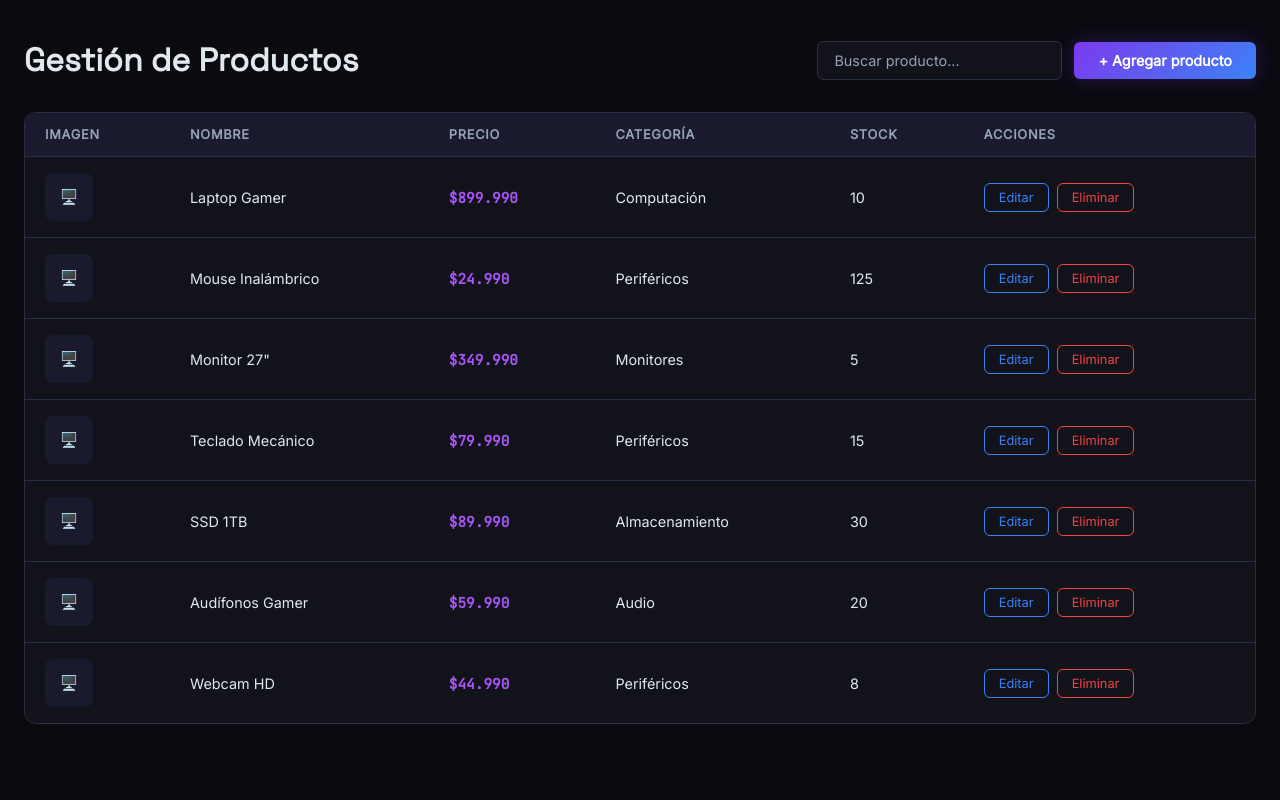
Test case: HU-ADMIN-01 · Gestión de Productos › CA5: buscador filtra productos por nombre
Type "Laptop" into the field with test id "buscador-productos". click: [940, 60]
box: [817,40,1062,80]
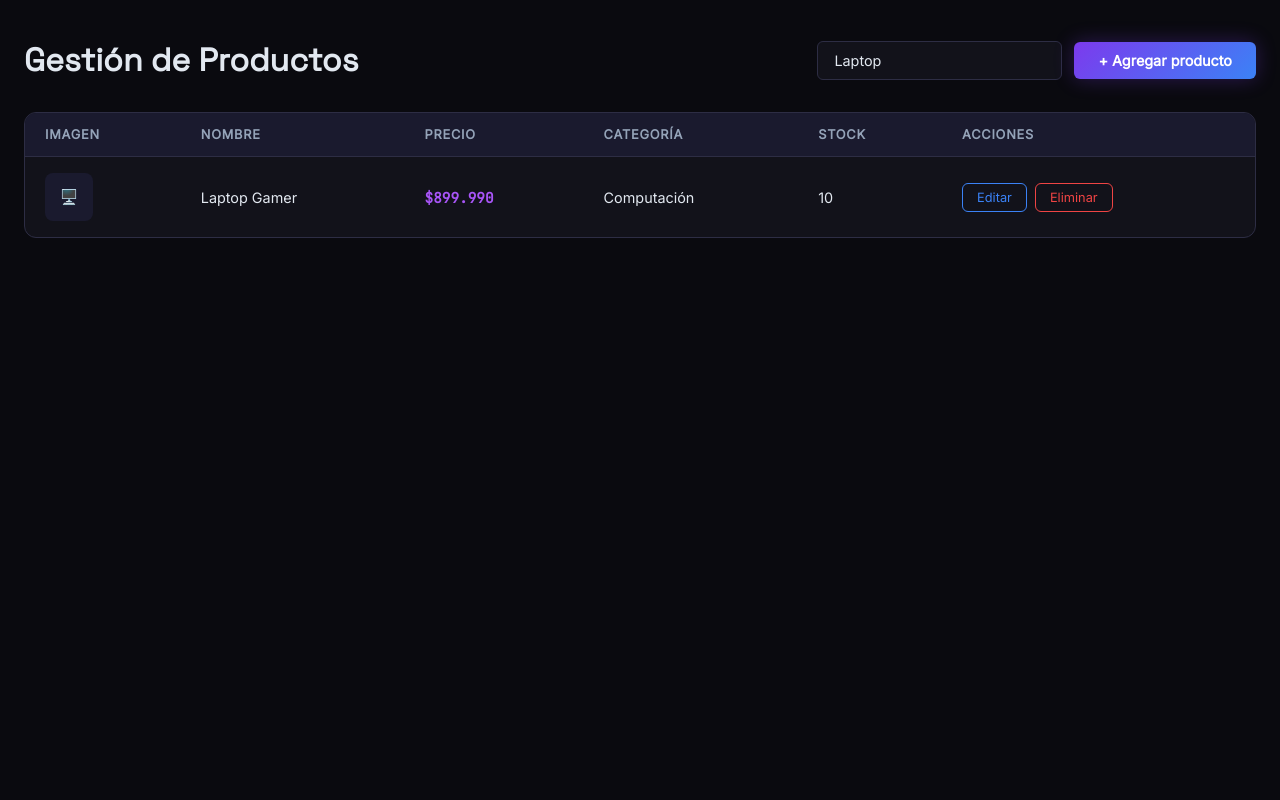
Check: the number of rows with test id "producto-fila" is 1, box [25,156,1255,237]
